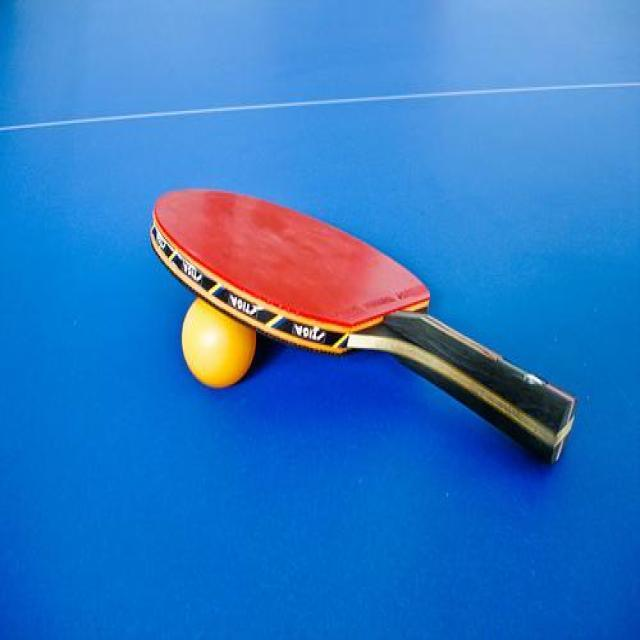ping-pong-ball: (181, 289, 258, 388)
